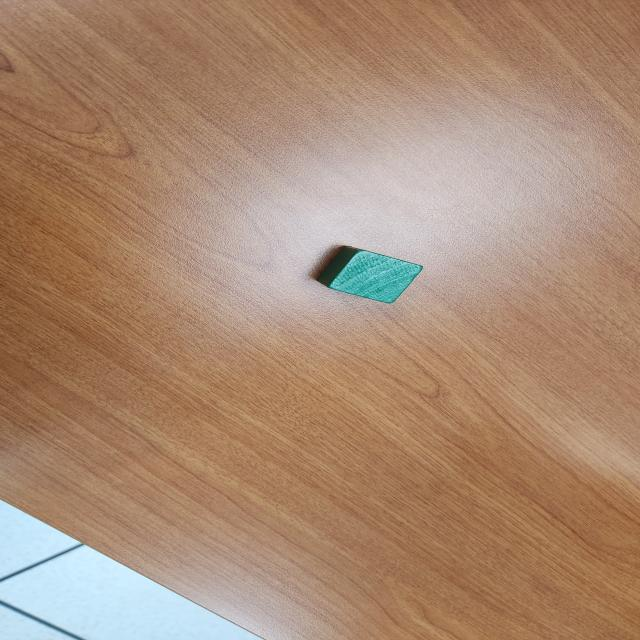green: (316, 245, 422, 304)
